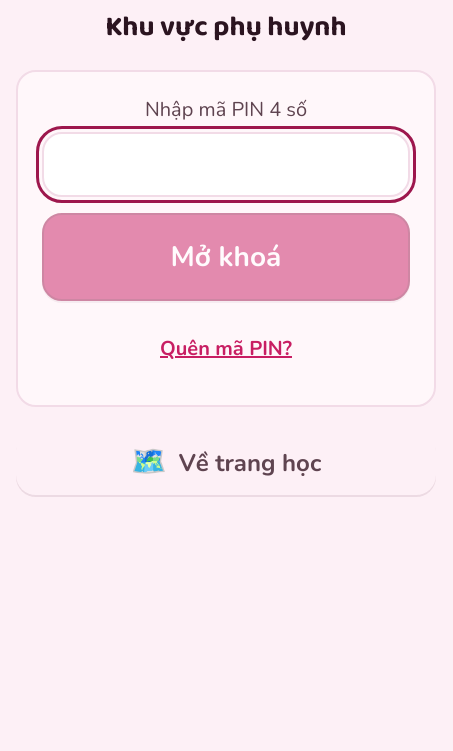
Test: ParentGatePage — quên mã PIN › nút "Quay lại nhập mã PIN" ⇒ trở về cổng, KHÔNG đặt lại gì
The width and height of the screenshot is (453, 751).
Expected: the password field labelled "Nhập mã PIN" is shown, [42, 132, 410, 197]
Step 1. Click the button "Quên mã PIN?" → (226, 349), box [42, 317, 410, 381]
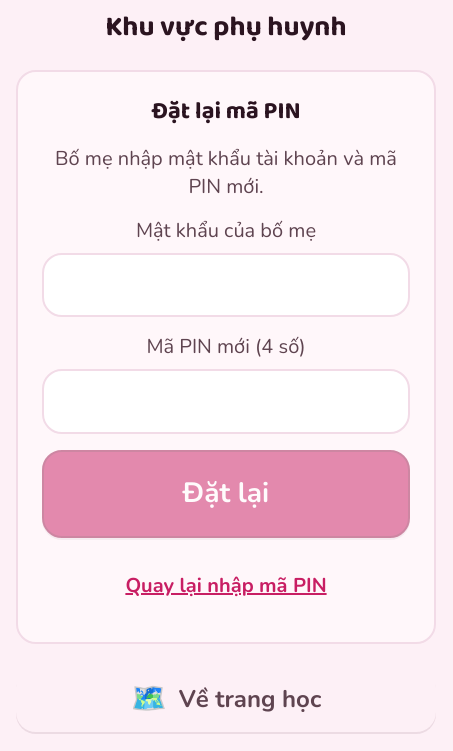
Expected: the password field labelled "Mật khẩu của bố mẹ" is shown, [42, 253, 410, 317]
Step 2. Click the button "Quay lại nhập mã PIN" → (226, 586), box [42, 554, 410, 618]
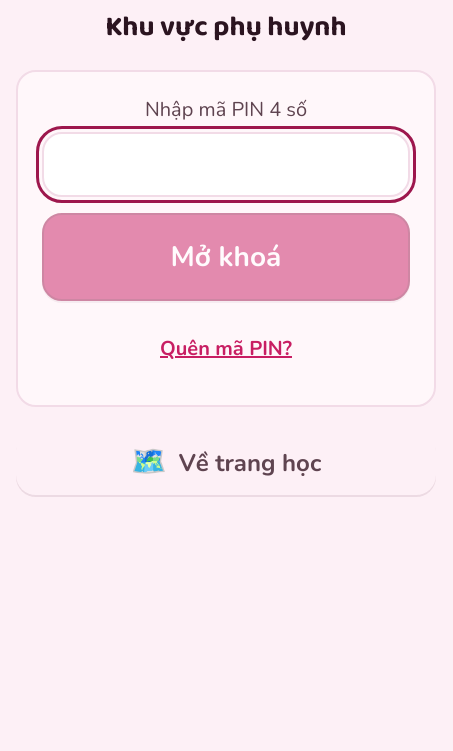
Expected: the password field labelled "Nhập mã PIN" is shown, [42, 132, 410, 197]
Expected: the text labelled "Mật khẩu của bố mẹ" is gone
